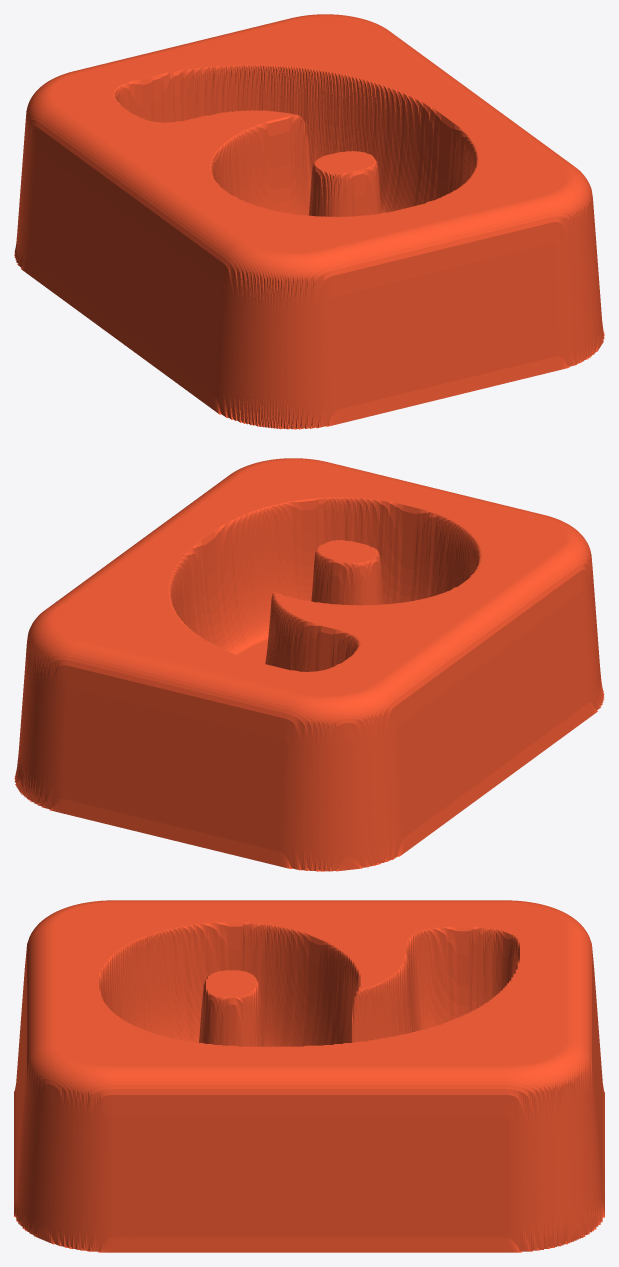
Rendered from mold.glb.
The picture shows the model from 3 angles, top to bottom: view 1: azimuth 30°, elevation 25°; view 2: azimuth 150°, elevation 25°; view 3: azimuth 270°, elevation 25°; orthographic projection. The views are drawn at different scales.
Parts seen in each view (by area): view 1: geometry_0; view 2: geometry_0; view 3: geometry_0.
Boxes of the visible parts, x1,y1,x2,y2 form: geometry_0: [14, 14, 604, 429]; geometry_0: [14, 458, 604, 871]; geometry_0: [14, 900, 604, 1252].
Size of the model in its own units: 0.0426 by 0.0172 by 0.0542.
